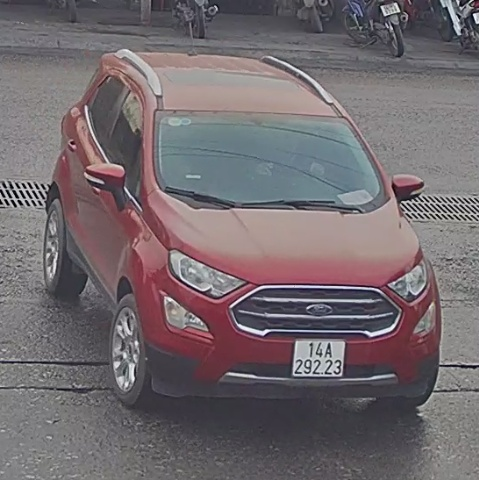vehicle plate: (288, 333, 351, 382)
